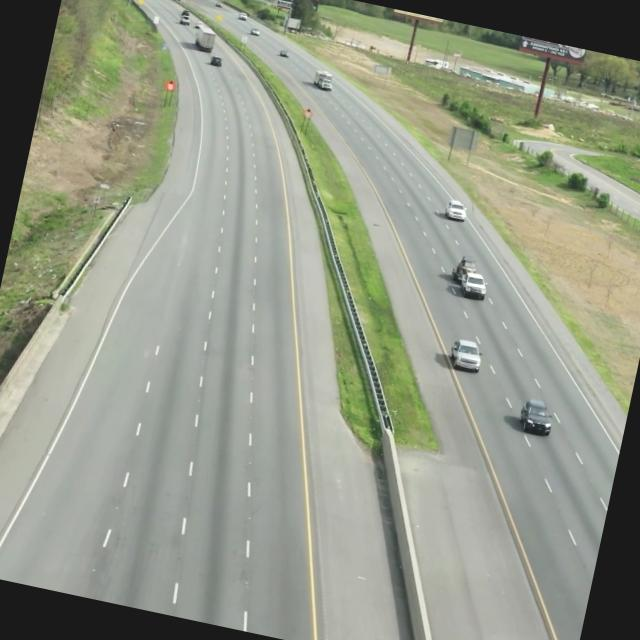Vehicle: (444, 248, 494, 308), (514, 394, 558, 438), (444, 333, 486, 379), (439, 193, 471, 227)
